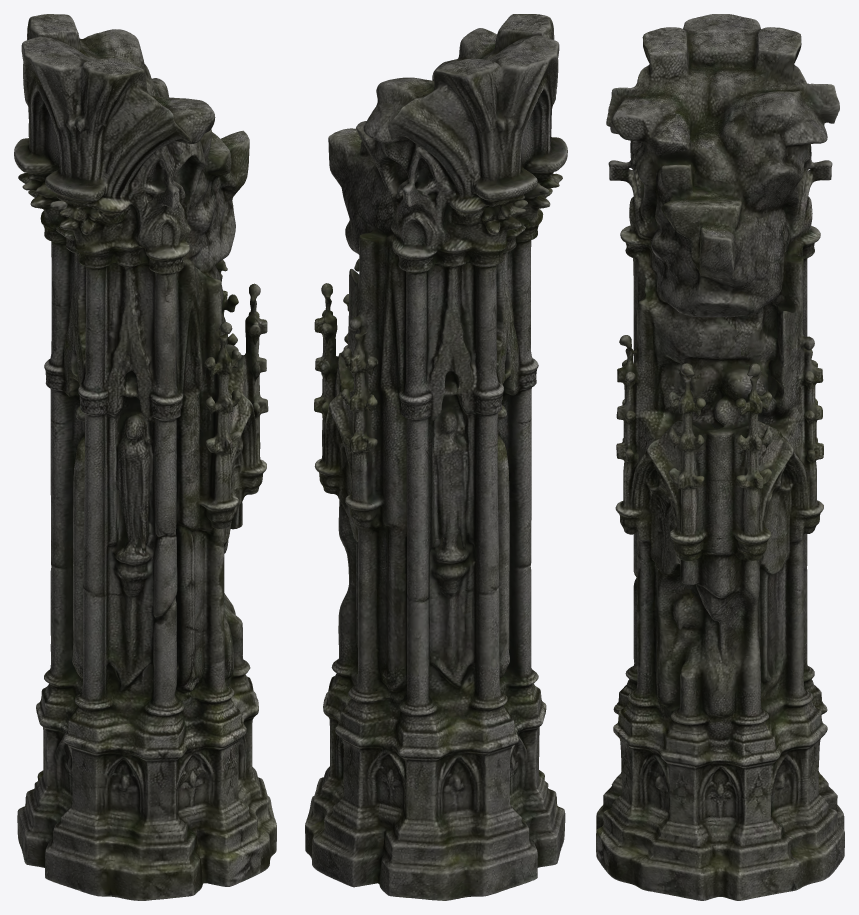
Rendered from 廃石柱1-compressed.glb.
3 renders of one model, left to right at view 1: azimuth 30°, elevation 25°; view 2: azimuth 150°, elevation 25°; view 3: azimuth 270°, elevation 25°, orthographic. The views are drawn at different scales.
Bounding box in the file's own units: 0.5604 × 1.9 × 0.5467.
1 material, 1 textured.
